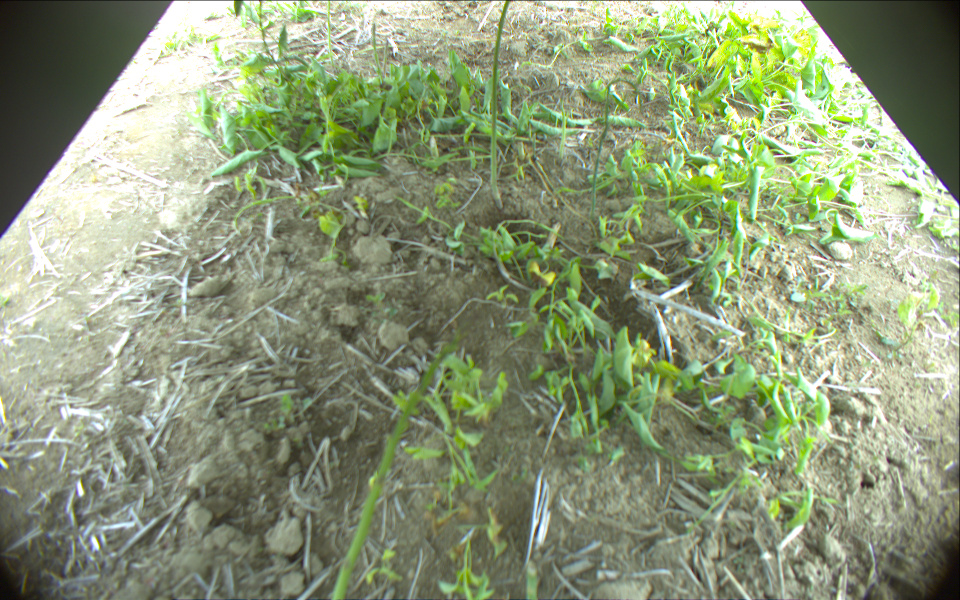aspa: (328, 334, 463, 600), (590, 80, 645, 215), (491, 1, 515, 207), (370, 16, 383, 76), (325, 1, 336, 70), (256, 1, 270, 52), (559, 105, 568, 159), (383, 37, 391, 76)
